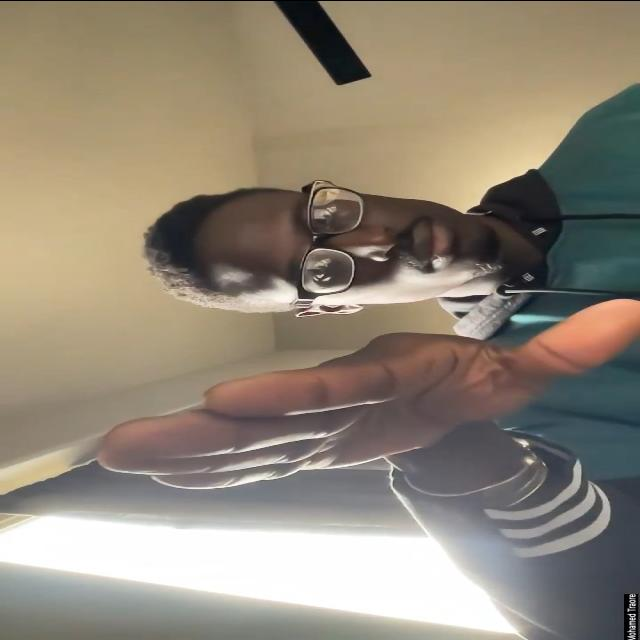Paper: (93, 296, 640, 488)
